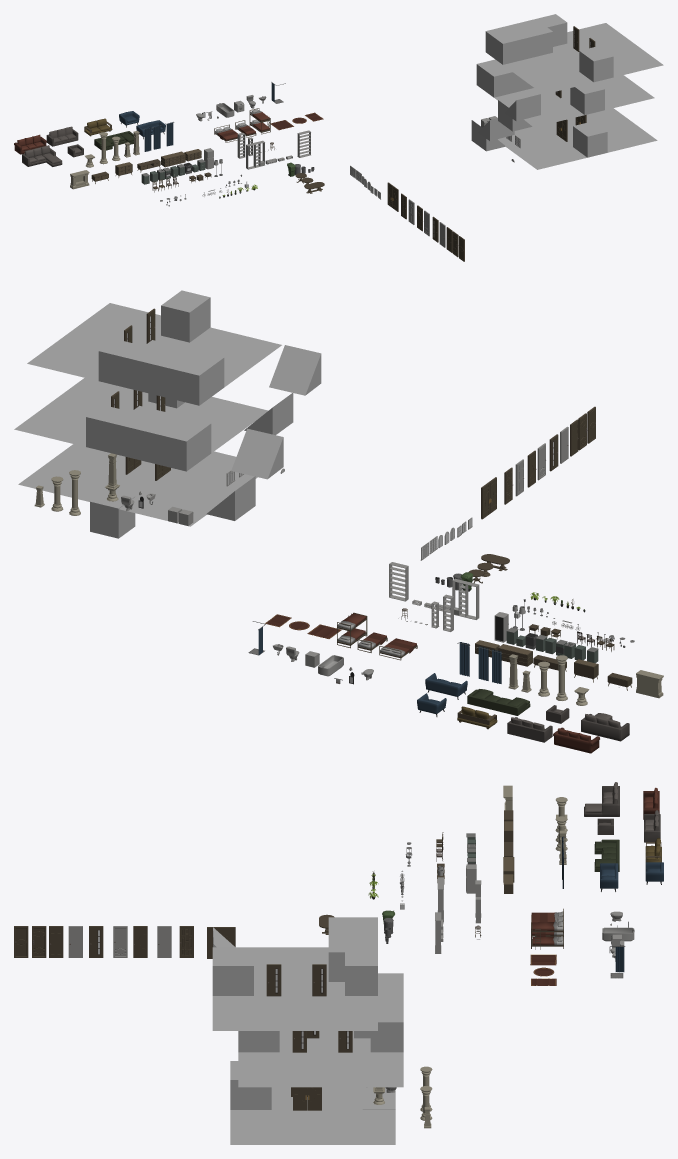
3 views of the same model, one above another, from view 1: azimuth 30°, elevation 25°; view 2: azimuth 150°, elevation 25°; view 3: azimuth 270°, elevation 25° (orthographic). The views are drawn at different scales.
Visible parts, largest first — view 1: pCube8, pPlane9, pPlane4, pPlane11, pPlane5, pPlane6, pCube7, pPlane7, pCube6, pCube2, pCube3, pCube12 (+12 smaller); view 2: pCube7, pCube8, pPlane9, pPlane4, pPlane7, pPlane5, pPlane11, pPlane6, pCube6, pCube12, pCube10, pCube1 (+12 smaller); view 3: pPlane7, pPlane5, pPlane9, pPlane11, pCube8, pCube6, pCube5, pCube4, pCube2, pCube7, group5, pPlane8 (+9 smaller).
Part boxes in pixels (<box>): pCube8: <box>485,19,552,64</box>; pPlane9: <box>567,23,663,77</box>; pPlane4: <box>498,122,587,169</box>; pPlane11: <box>503,53,593,94</box>; pPlane5: <box>567,108,657,152</box>; pPlane6: <box>494,88,584,127</box>; pCube7: <box>476,59,533,97</box>; pPlane7: <box>595,75,654,109</box>; pCube6: <box>579,46,613,82</box>; pCube2: <box>573,121,607,157</box>; pCube3: <box>570,82,604,114</box>; pCube12: <box>504,94,540,121</box>; pCube7: <box>114,405,211,471</box>; pCube8: <box>127,340,224,405</box>; pPlane9: <box>27,303,160,380</box>; pPlane4: <box>119,451,257,526</box>; pPlane7: <box>14,378,148,446</box>; pPlane5: <box>18,444,144,501</box>; pPlane11: <box>183,327,281,387</box>; pPlane6: <box>171,397,268,452</box>; pCube6: <box>161,290,210,342</box>; pCube12: <box>269,345,321,395</box>; pCube10: <box>231,428,283,479</box>; pCube1: <box>90,489,135,538</box>; pPlane7: <box>238,1052,403,1087</box>; pPlane5: <box>230,1110,395,1144</box>; pPlane9: <box>212,996,377,1030</box>; pPlane11: <box>212,947,328,981</box>; pCube8: <box>328,917,377,981</box>; pCube6: <box>212,952,253,995</box>; pCube5: <box>345,952,377,995</box>; pCube4: <box>370,1008,403,1052</box>; pCube2: <box>230,1066,271,1109</box>; pCube7: <box>354,973,403,1038</box>; group5: <box>266,964,326,996</box>; pPlane8: <box>279,1038,370,1052</box>.
Bounding box in the file's own units: 99.51 × 23.33 × 78.62.
